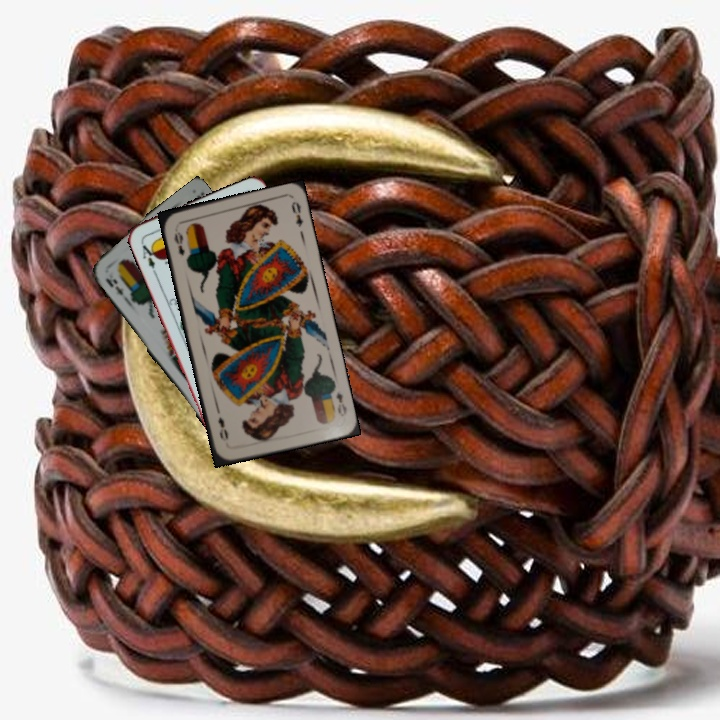EA: (137, 237, 160, 271)
EK: (102, 274, 127, 298)
EO: (332, 388, 349, 419), (170, 228, 187, 258)
